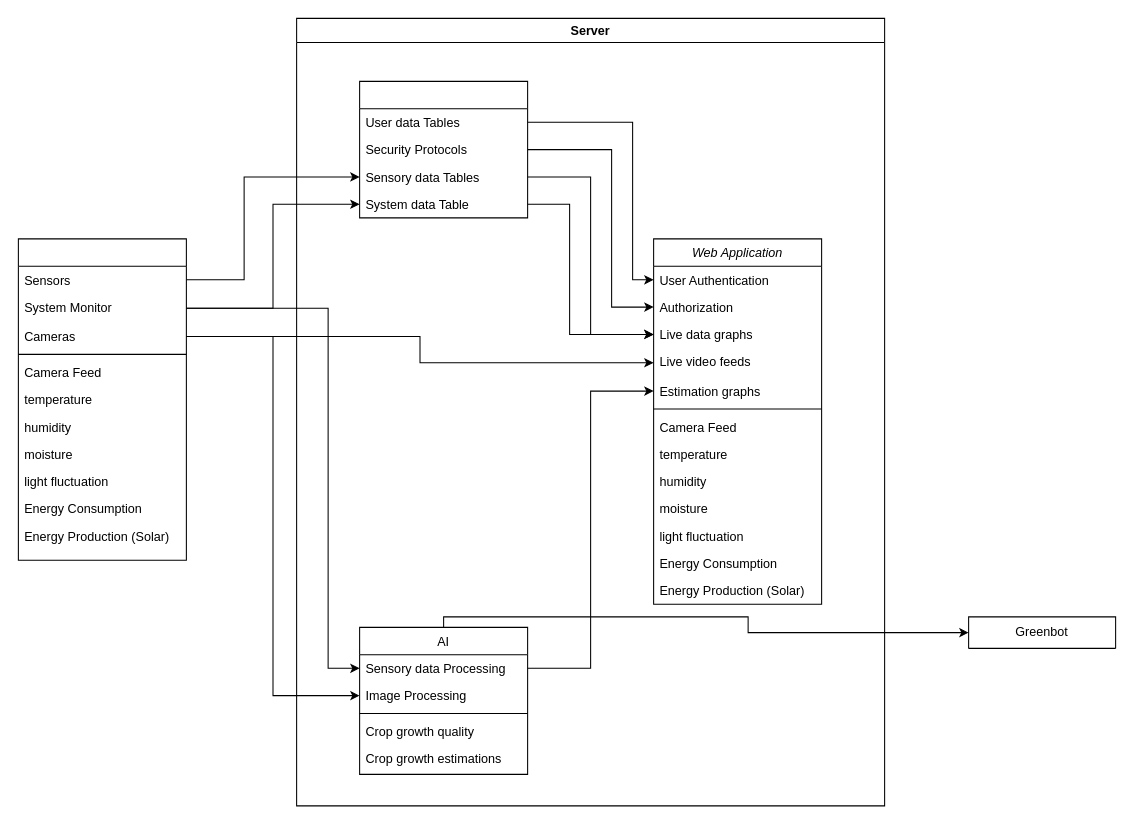
The diagram is 1134 pixels wide and 824 high, and some of its shapes have lost their labels. Each missing label, with the box of its shape:
Greenhouse: (17, 238, 186, 560)
SQL Database: (359, 80, 528, 218)
